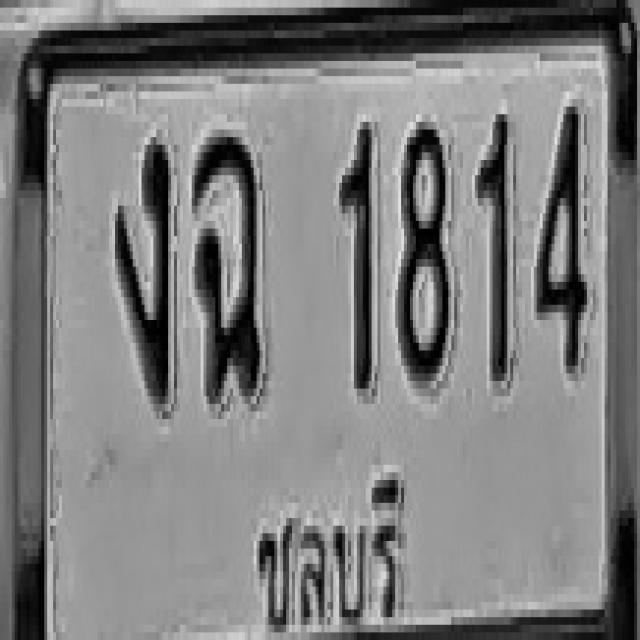1: (475, 110, 510, 385), (338, 118, 373, 392)
16NgorNgu: (115, 137, 171, 404)
18ChorChing: (192, 133, 262, 400)
4: (534, 103, 587, 369)
8: (396, 118, 449, 385)
Chonburi: (248, 457, 414, 640)
